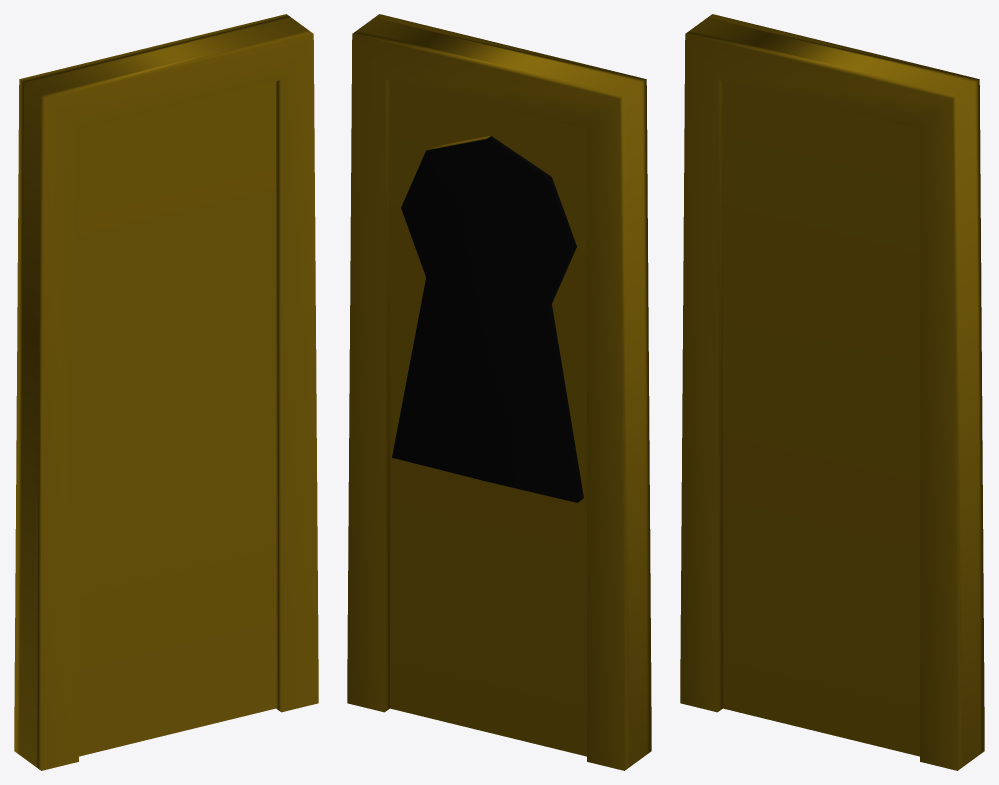
Rendered from DoorKEy2.fbx.
3 renders of one model, left to right at view 1: azimuth 30°, elevation 25°; view 2: azimuth 150°, elevation 25°; view 3: azimuth 330°, elevation 25°, orthographic.
Parts seen in each view (by area): view 1: Door, Frame; view 2: Door, Frame; view 3: Door, Frame.
Boxes of the visible parts, <box> form: Door: <box>79,81,275,756</box>; Frame: <box>14,14,318,770</box>; Door: <box>390,81,586,756</box>; Frame: <box>347,14,651,770</box>; Door: <box>723,81,919,756</box>; Frame: <box>680,14,984,770</box>.
Bounding box in the file's own units: 274 × 633 × 48.49.
